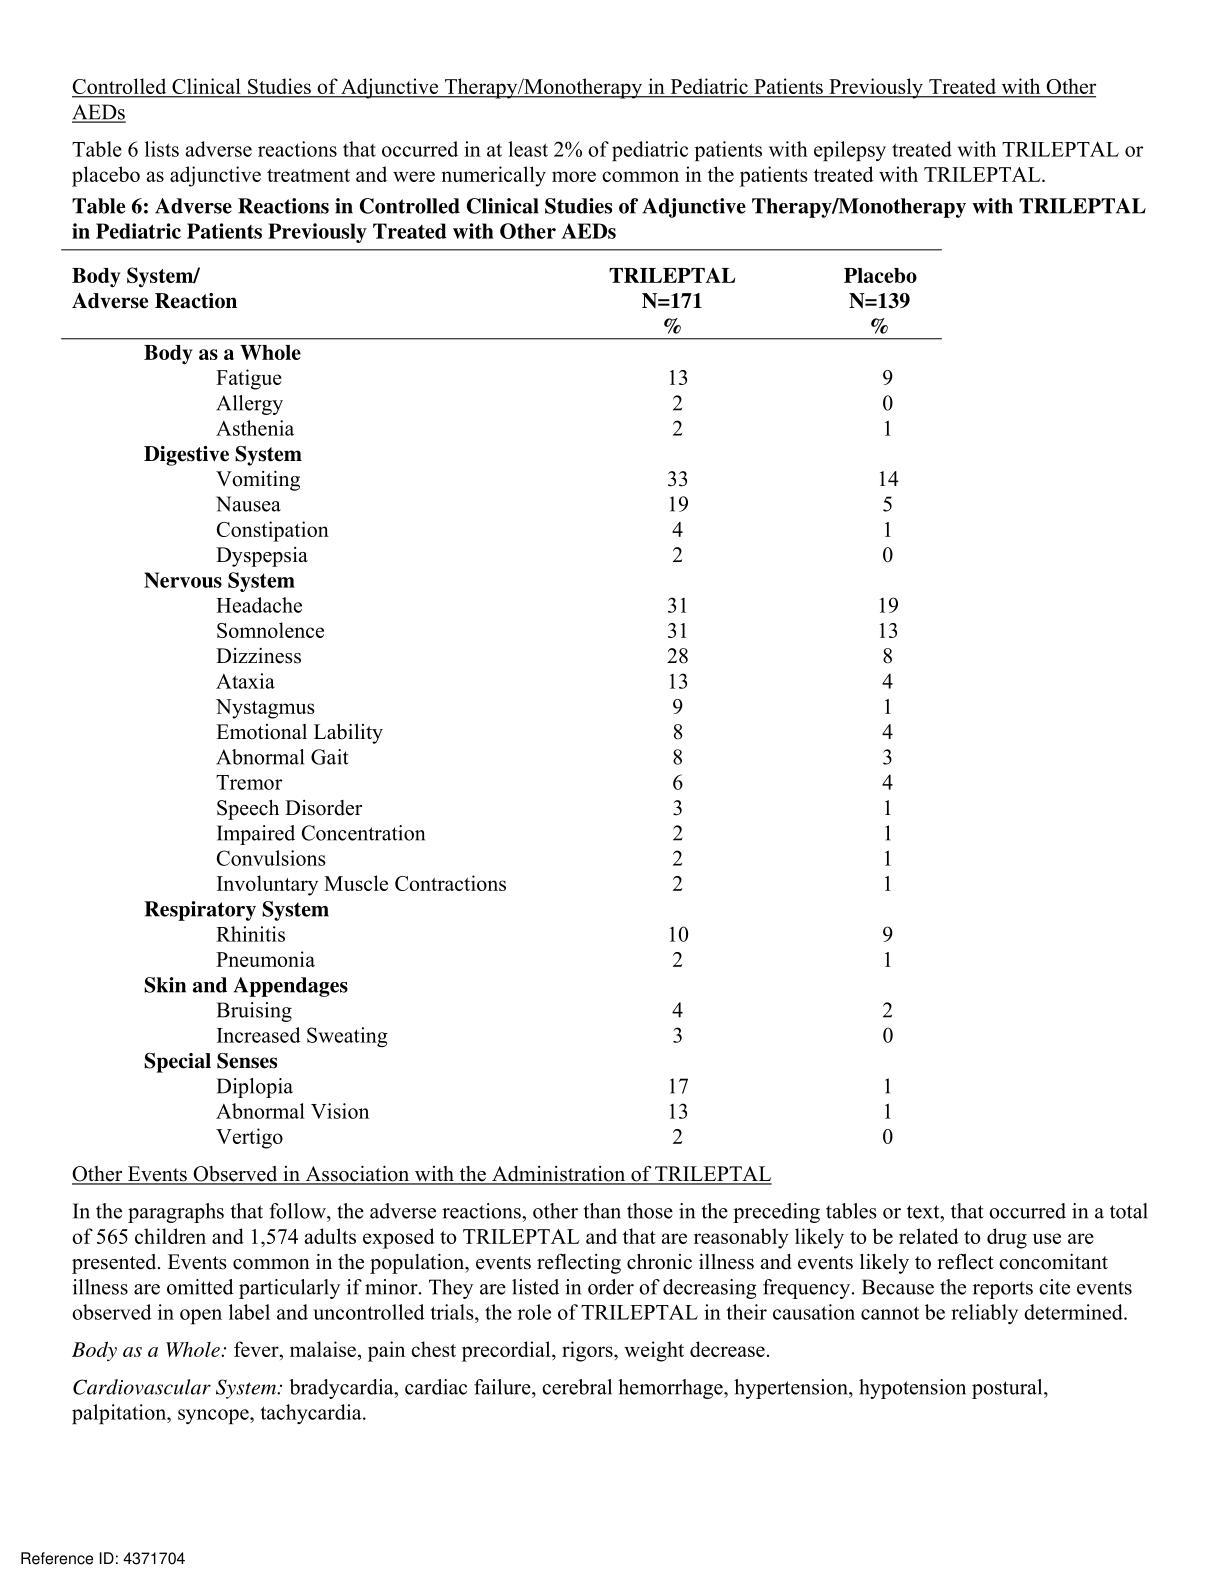partial_lined: (60, 248, 941, 1152)
